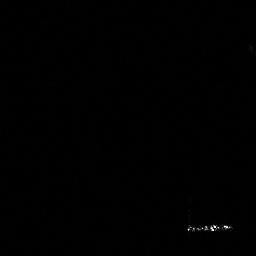ship: (183, 220, 234, 234)
